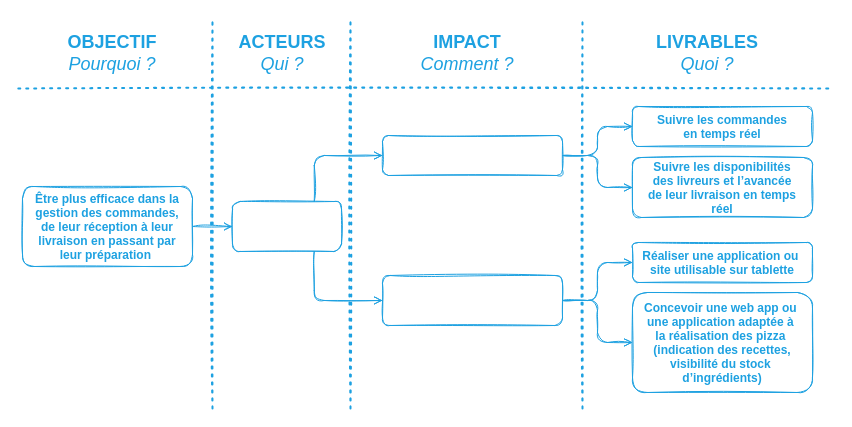
The diagram is 852 pixels wide and 427 high, and some of its shapes have lost their labels. Here are the shapes that lost their labels. From the top down, the centre of each, then its label:
At point (472, 155): "Planifier au mieux la réalisation des pizzas".
At point (287, 226): "Émelyne la pizzaïola".
At point (472, 300): "Pouvoir aisément suivre les commandes tout en réalisant des pizzas".
